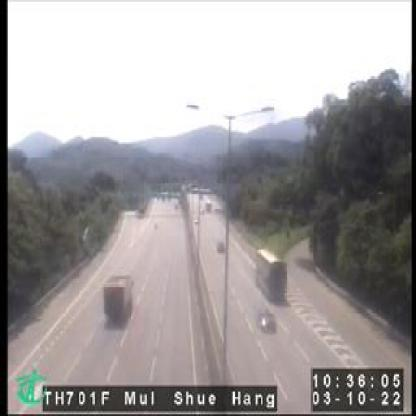Bus: (251, 248, 285, 301)
Car: (257, 306, 277, 327)
Truck: (101, 276, 130, 319)
